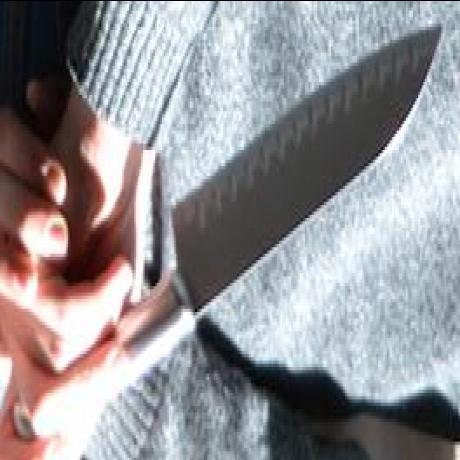1: (0, 0, 181, 454)
weapon: (135, 17, 448, 395)
